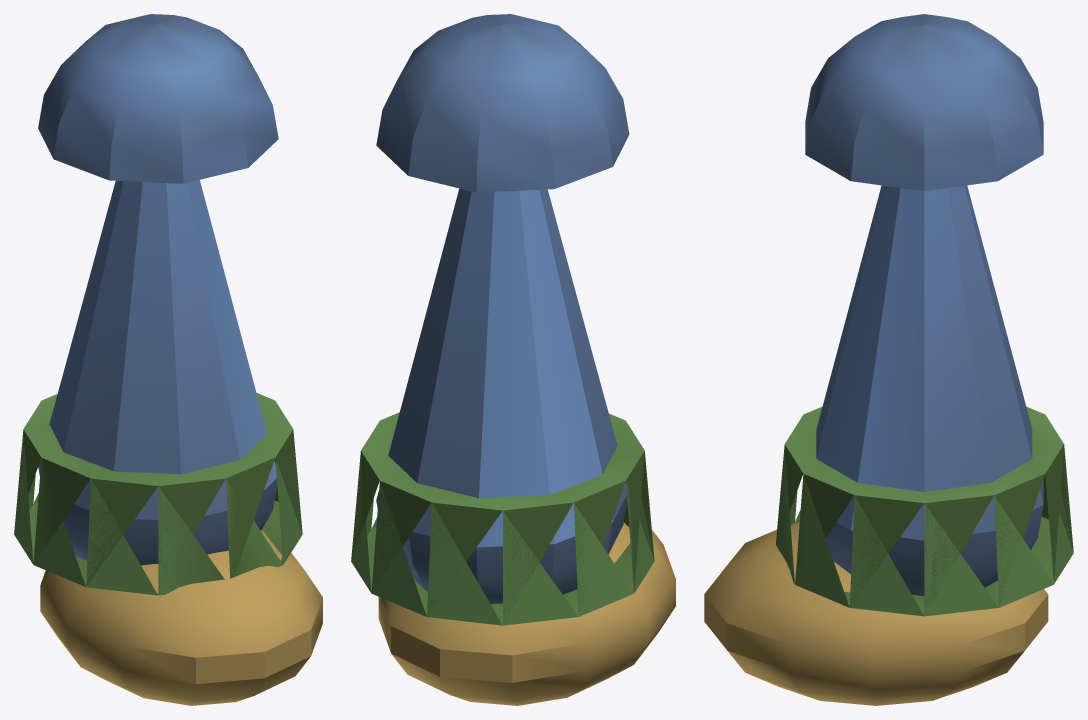
The model's file is boy-balloon-legR.glb.
3 renders of one model, left to right at view 1: azimuth 30°, elevation 25°; view 2: azimuth 150°, elevation 25°; view 3: azimuth 270°, elevation 25°, orthographic. The views are drawn at different scales.
Visible parts, largest first — view 1: player_boy-balloon:legR; view 2: player_boy-balloon:legR; view 3: player_boy-balloon:legR.
Part boxes in pixels (x1=…): player_boy-balloon:legR: x1=14, y1=14, x2=322, y2=705; player_boy-balloon:legR: x1=351, y1=14, x2=675, y2=705; player_boy-balloon:legR: x1=704, y1=14, x2=1073, y2=705.
Bounding box in the file's own units: 0.124 × 0.303 × 0.1534.
